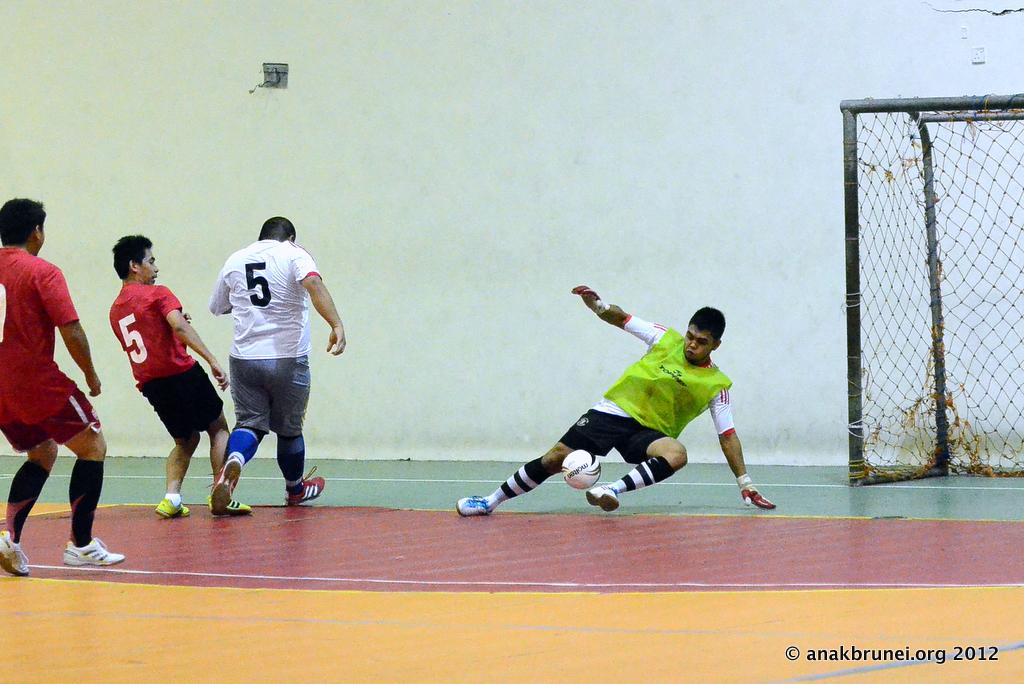Ball: (561, 450, 604, 491)
